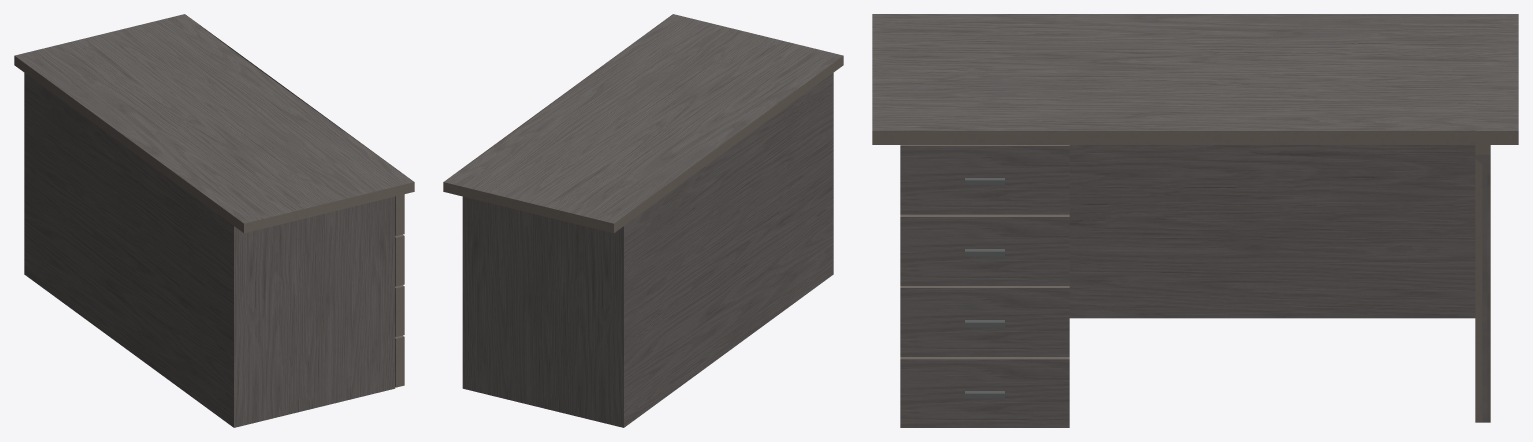
Rendered from table_1.fbx.
3 renders of one model, left to right at view 1: azimuth 30°, elevation 25°; view 2: azimuth 150°, elevation 25°; view 3: azimuth 270°, elevation 25°, orthographic. The views are drawn at different scales.
Visible parts, largest first — view 1: Table2, drawer.007, drawer.002, drawer.003, drawer.001; view 2: Table2; view 3: Table2, drawer.002, drawer.003, drawer.007, drawer.001.
Part boxes in pixels (x1,y1,x2,y2): Table2: (14,14,414,427); drawer.007: (395,335,404,387); drawer.002: (395,234,404,286); drawer.003: (395,285,404,336); drawer.001: (395,194,404,235); Table2: (443,14,843,427); Table2: (872,14,1518,422); drawer.002: (900,214,1069,285); drawer.003: (900,286,1069,356); drawer.007: (900,357,1069,427); drawer.001: (900,145,1069,214).
Bounding box in the file's own units: 0.7972 × 0.9255 × 1.82.
1 material, 1 textured.
